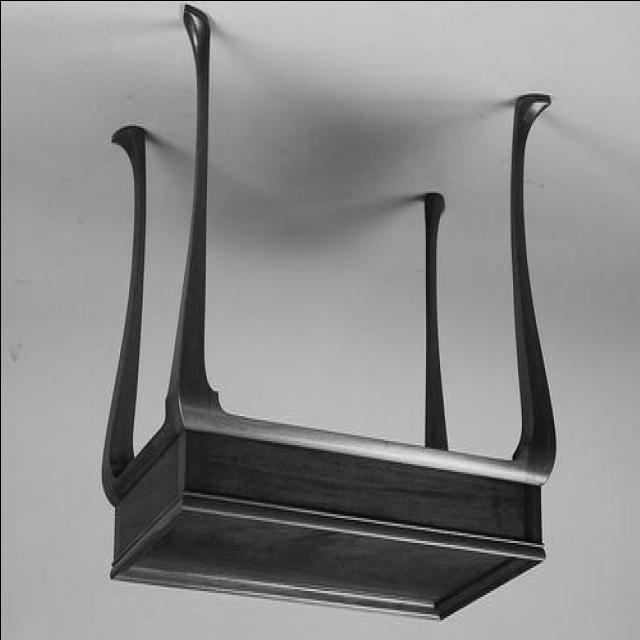table: (99, 5, 558, 619)
